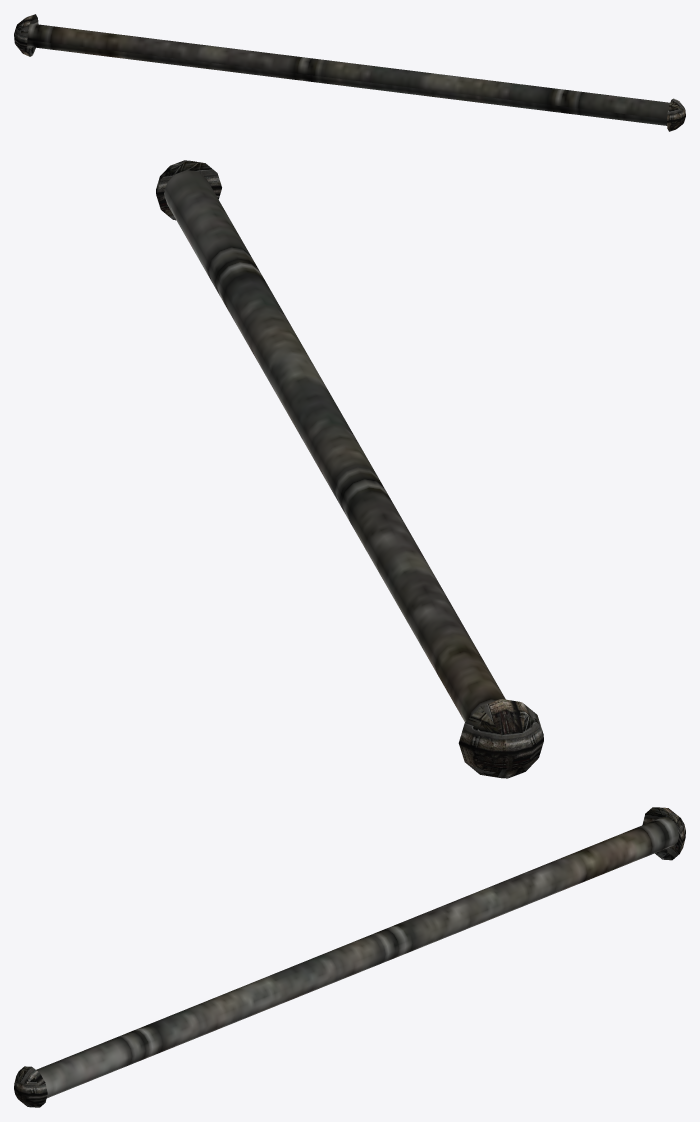
The model's file is prop_pipe.gltf.
The picture shows the model from 3 angles, top to bottom: view 1: azimuth 30°, elevation 25°; view 2: azimuth 150°, elevation 25°; view 3: azimuth 270°, elevation 25°; orthographic projection. The views are drawn at different scales.
Visible parts, largest first — view 1: cube6; view 2: cube6; view 3: cube6.
Part boxes in pixels (left/top/right/bottom): cube6: left=14, top=14, right=685, bottom=131; cube6: left=156, top=160, right=543, bottom=778; cube6: left=14, top=807, right=685, bottom=1107.
Size of the model in its own units: 18.87 by 1.67 by 19.65.
1 material, 1 textured.
